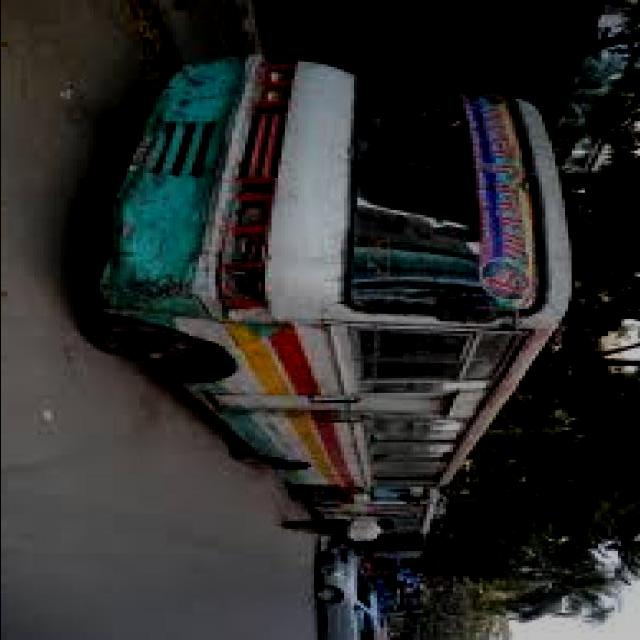bus: (83, 57, 572, 490)
